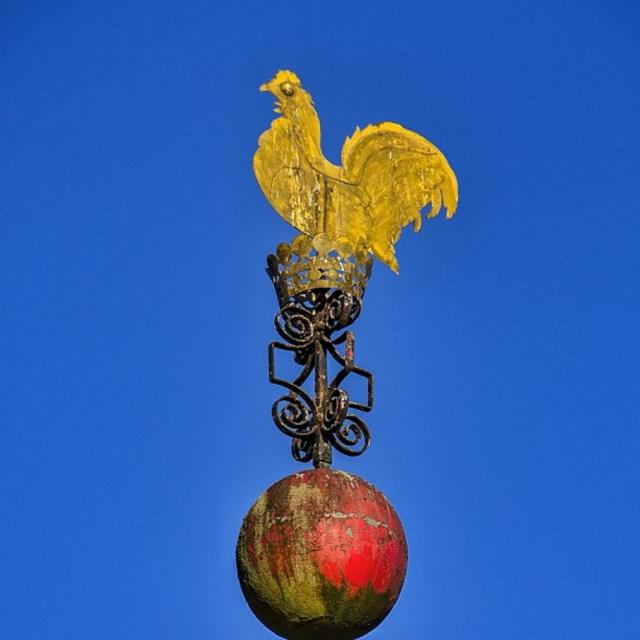Chicken: (251, 66, 464, 257)
